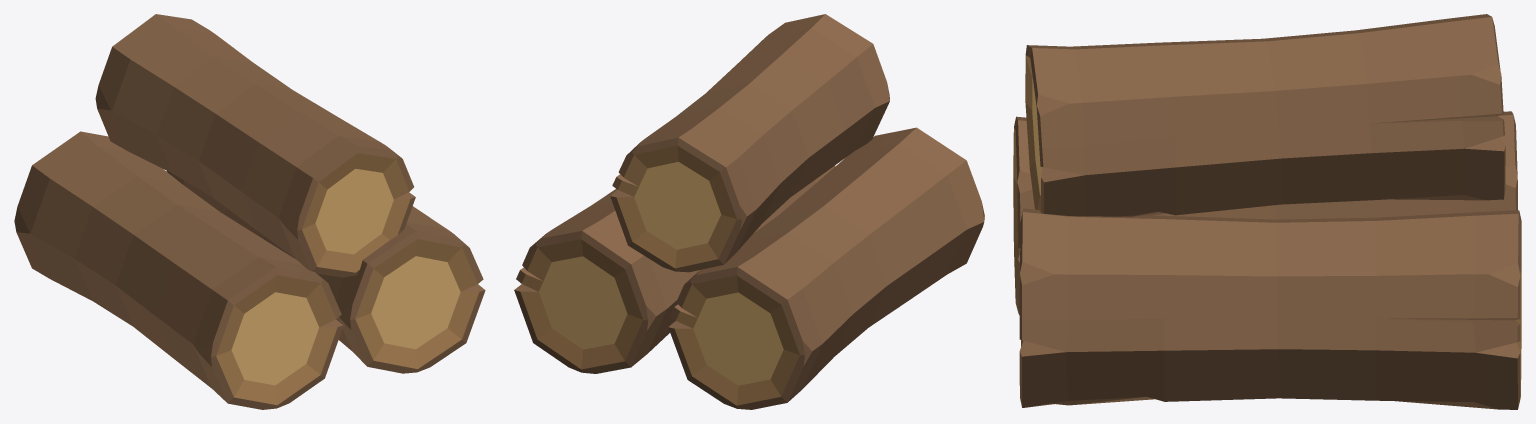
The model's file is Firewood1.fbx.
3 views of the same model, side by side, from view 1: azimuth 30°, elevation 25°; view 2: azimuth 150°, elevation 25°; view 3: azimuth 270°, elevation 25° (orthographic). The views are drawn at different scales.
Parts seen in each view (by area): view 1: Circle.018, Circle.019, Circle.016; view 2: Circle.018, Circle.019, Circle.016; view 3: Circle.016, Circle.019, Circle.018.
Part boxes in pixels (x1=…): Circle.018: x1=14, y1=131, x2=343, y2=409; Circle.019: x1=95, y1=14, x2=415, y2=277; Circle.016: x1=166, y1=171, x2=485, y2=373; Circle.018: x1=668, y1=127, x2=984, y2=409; Circle.019: x1=610, y1=14, x2=889, y2=272; Circle.016: x1=514, y1=165, x2=835, y2=373; Circle.016: x1=1019, y1=208, x2=1521, y2=409; Circle.019: x1=1025, y1=14, x2=1505, y2=216; Circle.018: x1=1013, y1=111, x2=1517, y2=315.
Size of the model in its own units: 0.64 by 0.7366 by 0.5331.
